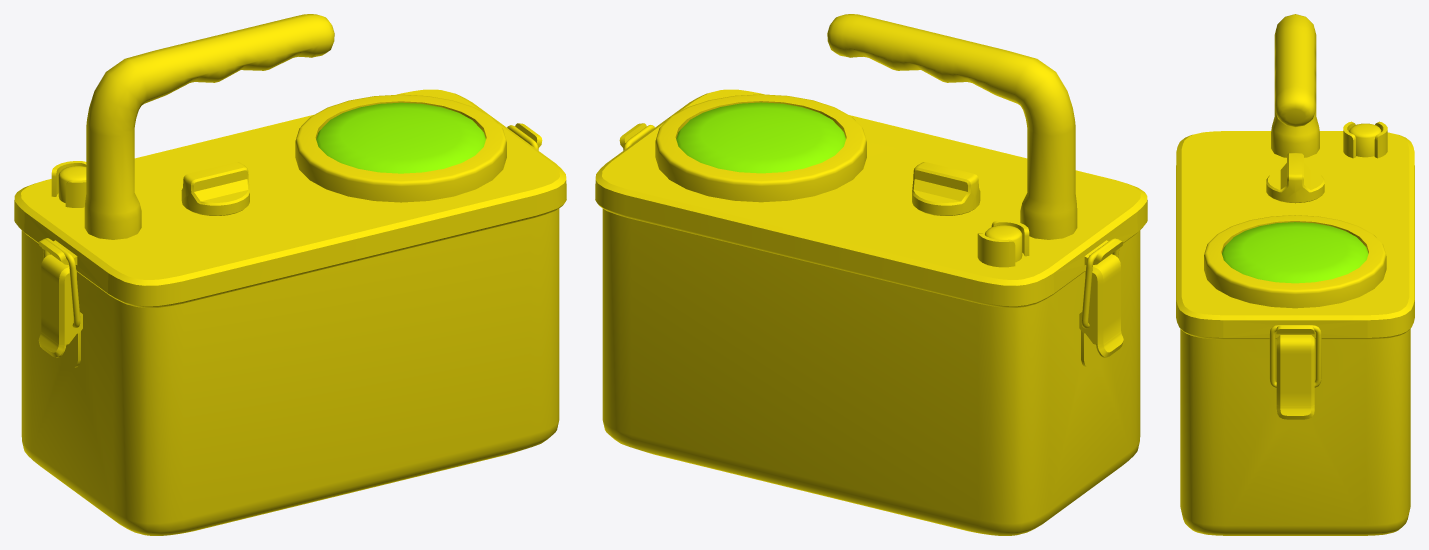
The model's file is Geiger Counter FBX.FBX.
3 views of the same model, side by side, from view 1: azimuth 30°, elevation 25°; view 2: azimuth 150°, elevation 25°; view 3: azimuth 270°, elevation 25° (orthographic). The views are drawn at different scales.
Parts seen in each view (by area): view 1: Geiger Counter, GLASS, Knob; view 2: Geiger Counter, GLASS, Knob, Button; view 3: Geiger Counter, GLASS, Knob, Button.
Part boxes in pixels (bbox=[...]): Geiger Counter: bbox=[14, 14, 566, 535]; GLASS: bbox=[316, 102, 485, 173]; Knob: bbox=[181, 162, 249, 215]; Geiger Counter: bbox=[595, 14, 1147, 535]; GLASS: bbox=[676, 102, 845, 173]; Knob: bbox=[912, 162, 980, 215]; Button: bbox=[985, 225, 1022, 262]; Geiger Counter: bbox=[1176, 14, 1414, 535]; GLASS: bbox=[1222, 222, 1368, 283]; Knob: bbox=[1266, 152, 1324, 203]; Button: bbox=[1349, 123, 1381, 157].
Bounding box in the file's own units: 9.36 × 7.83 × 4.58.
